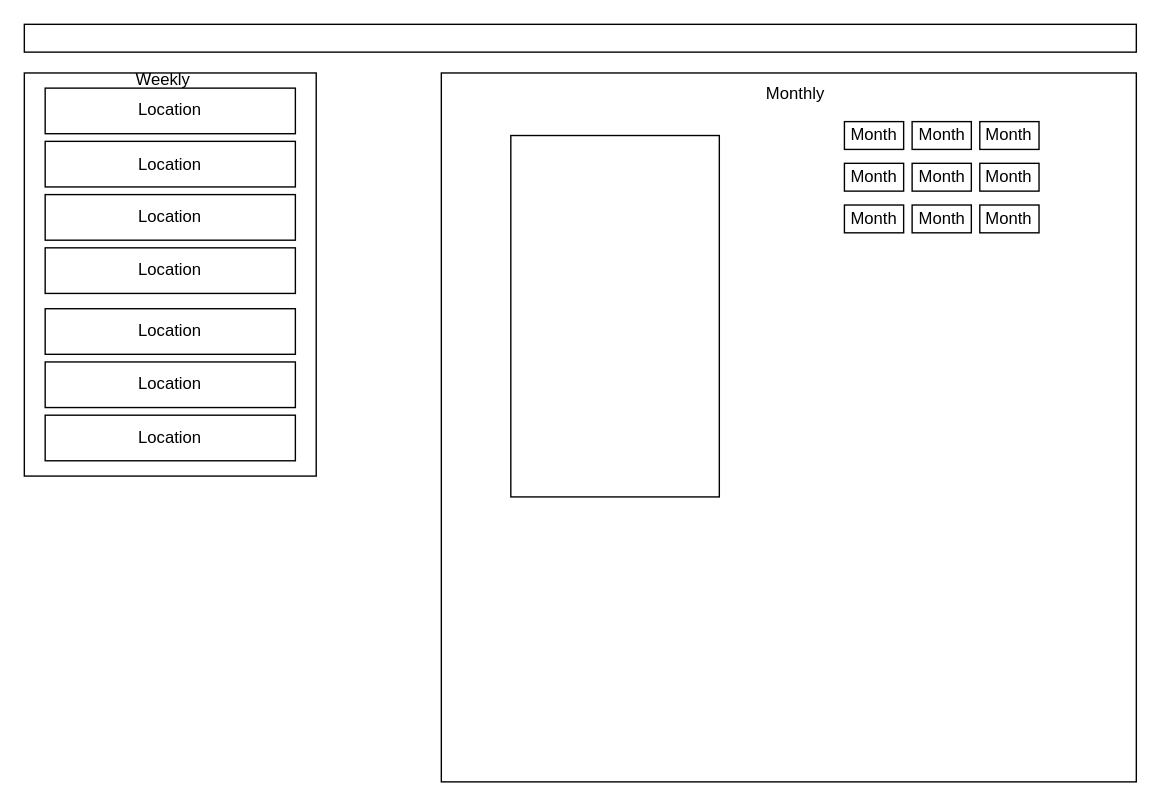
Some shapes in this 1161 by 806 pixel diagram are drawn without their labels. The shapes that lost their labels are listed below. From the top down, each one's centre as x and y in pixels, then its label:
At point (579, 37): "Header".
At point (614, 315): "Selection".
